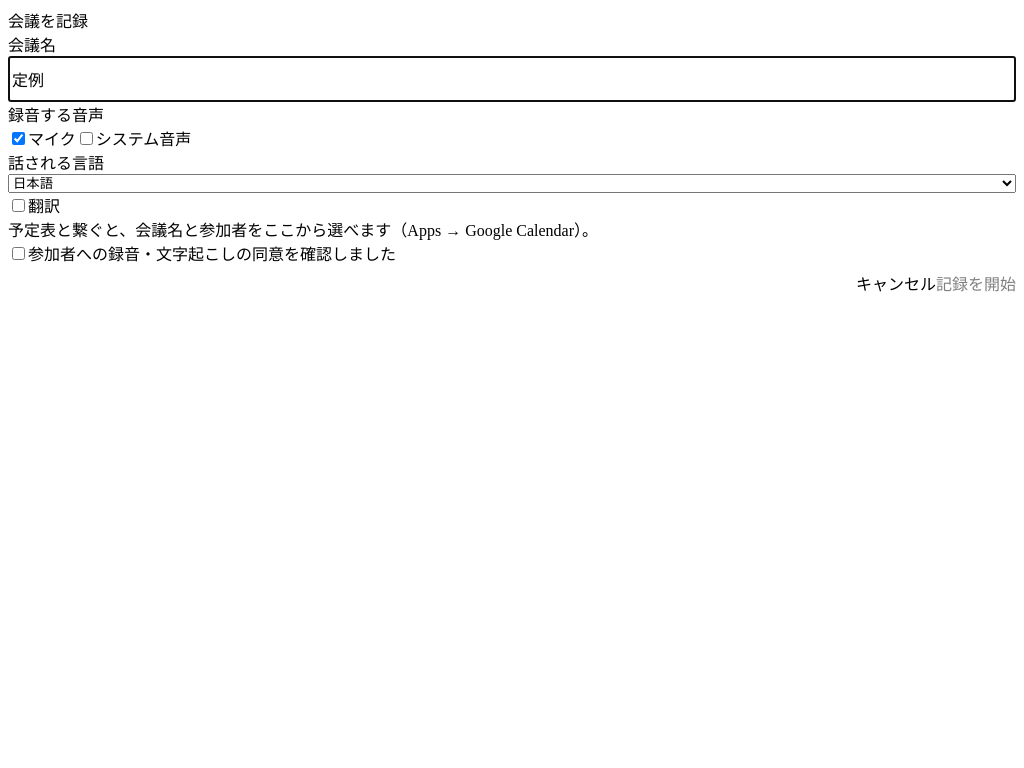
it: StartConfirmation (§12.1) › refuses to start when nothing would be recorded
Click the checkbox labelled "参加者への録音・文字起こしの同意を確認しました" at coordinates (18, 253), box [12,246,25,260]
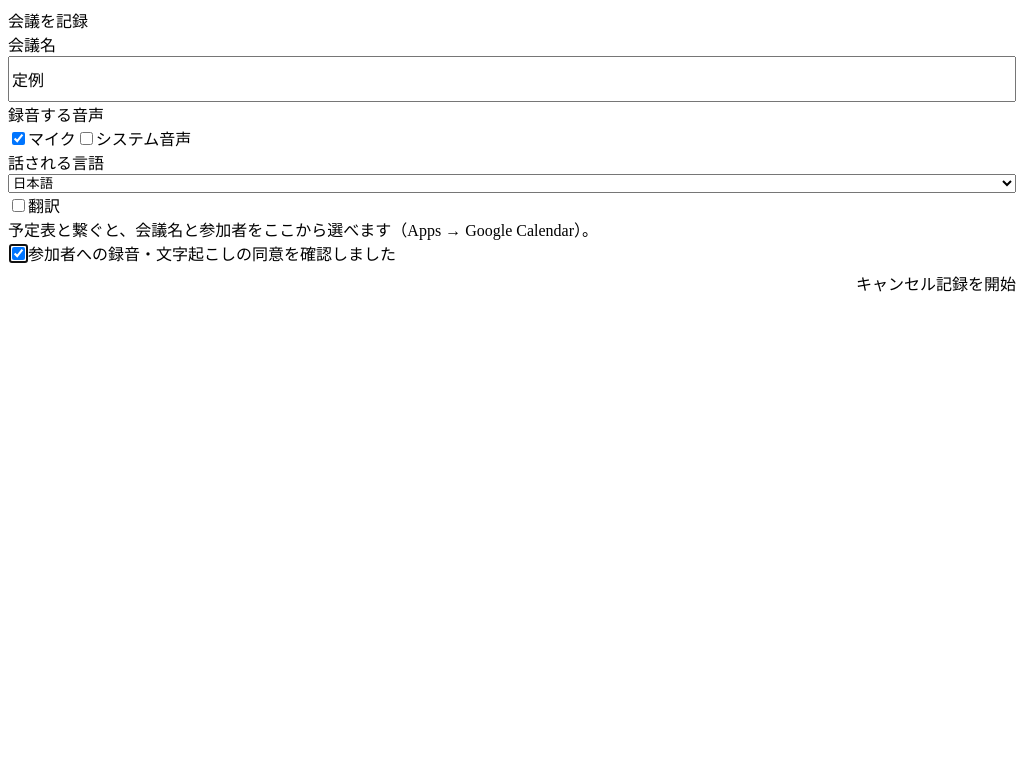
Click the checkbox labelled "マイク" at coordinates (18, 138), box [12,132,25,144]
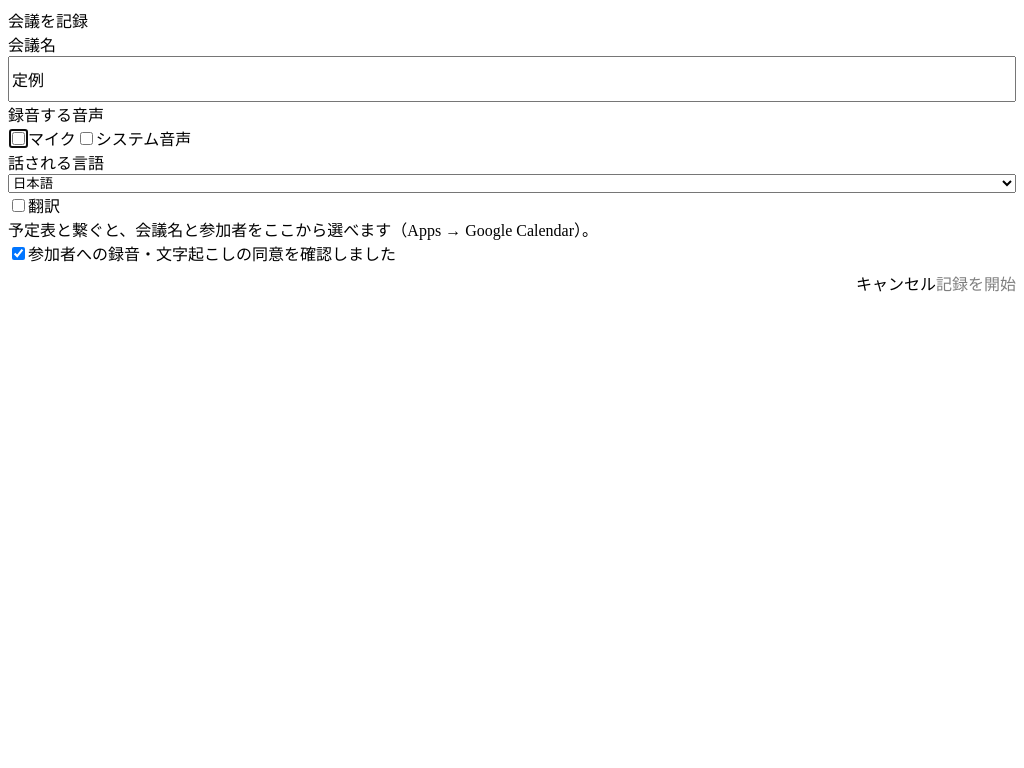
Now the button "記録を開始" is disabled, box [936,265,1016,301]
